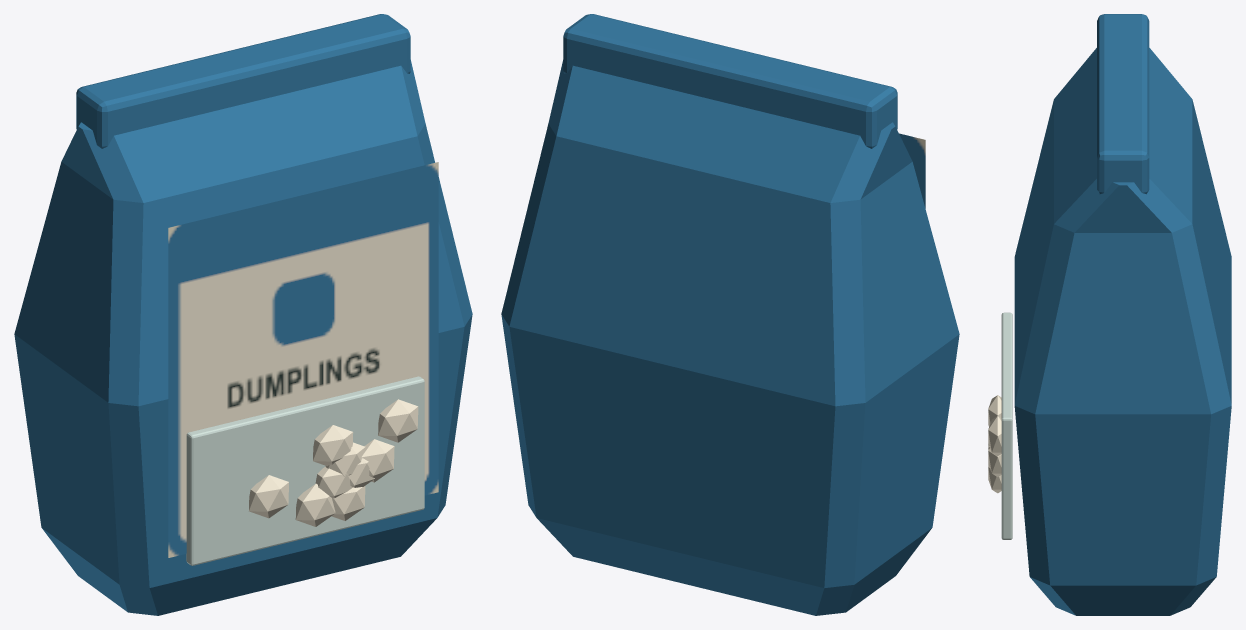
Rendered from dumplings.fbx.
3 renders of one model, left to right at view 1: azimuth 30°, elevation 25°; view 2: azimuth 150°, elevation 25°; view 3: azimuth 270°, elevation 25°, orthographic. The views are drawn at different scales.
Parts seen in each view (by area): view 1: dumplings; view 2: dumplings; view 3: dumplings.
Boxes of the visible parts, bbox=[...] form: dumplings: bbox=[14, 14, 472, 615]; dumplings: bbox=[501, 14, 959, 615]; dumplings: bbox=[988, 14, 1231, 615].
Size of the model in its own units: 21 by 27.67 by 13.01.
